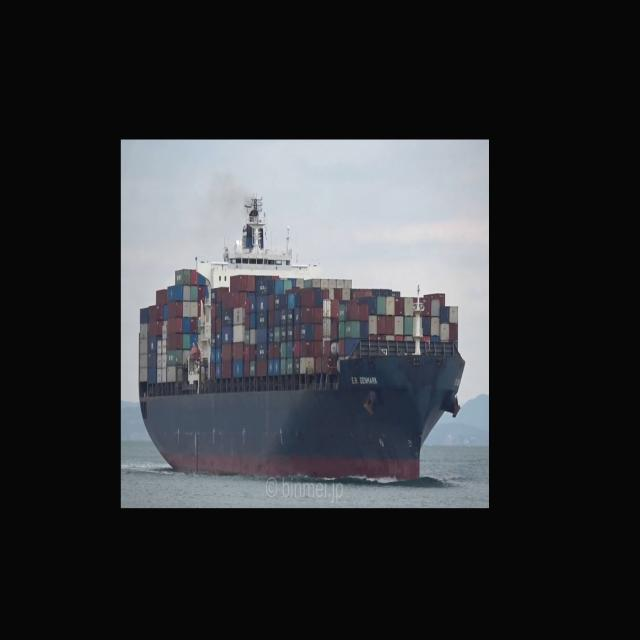ship: (137, 232, 466, 483)
